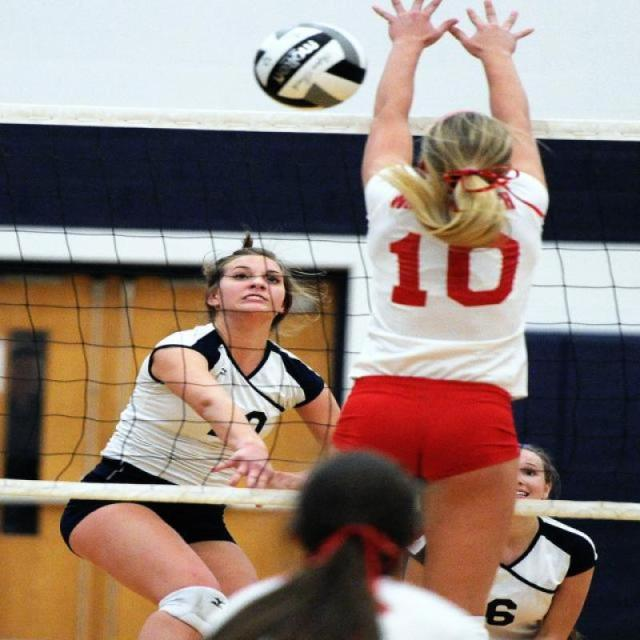volleyball: (247, 23, 366, 112)
